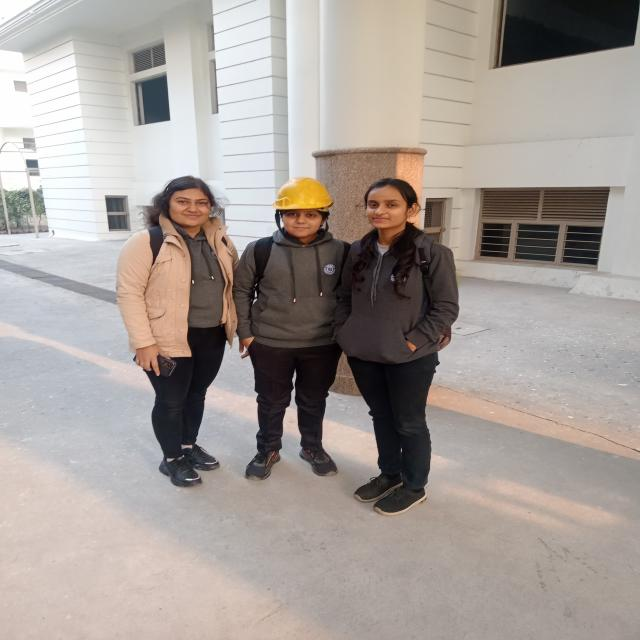no jacket: (241, 180, 349, 485)
unsafe: (120, 174, 242, 481), (347, 178, 458, 511)
